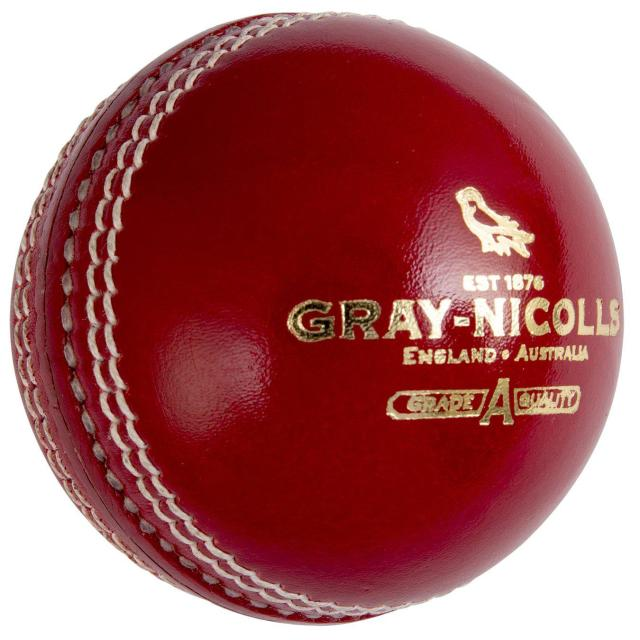ball: (11, 13, 625, 626)
